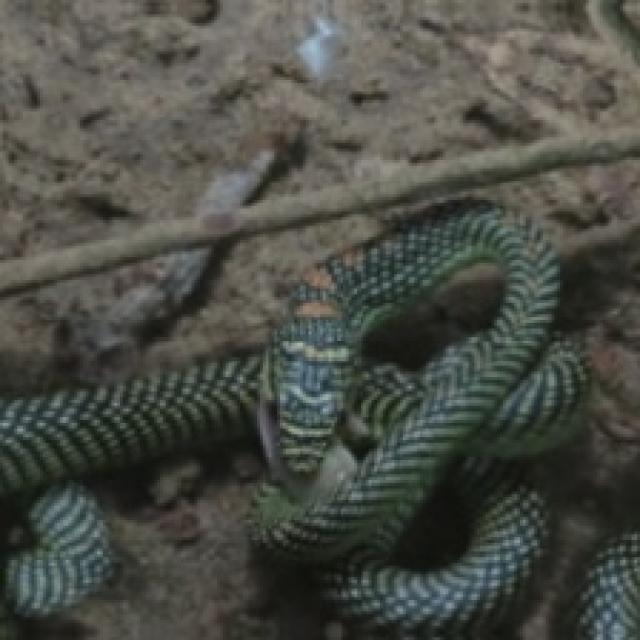paradise tree snake: (0, 203, 583, 634)
